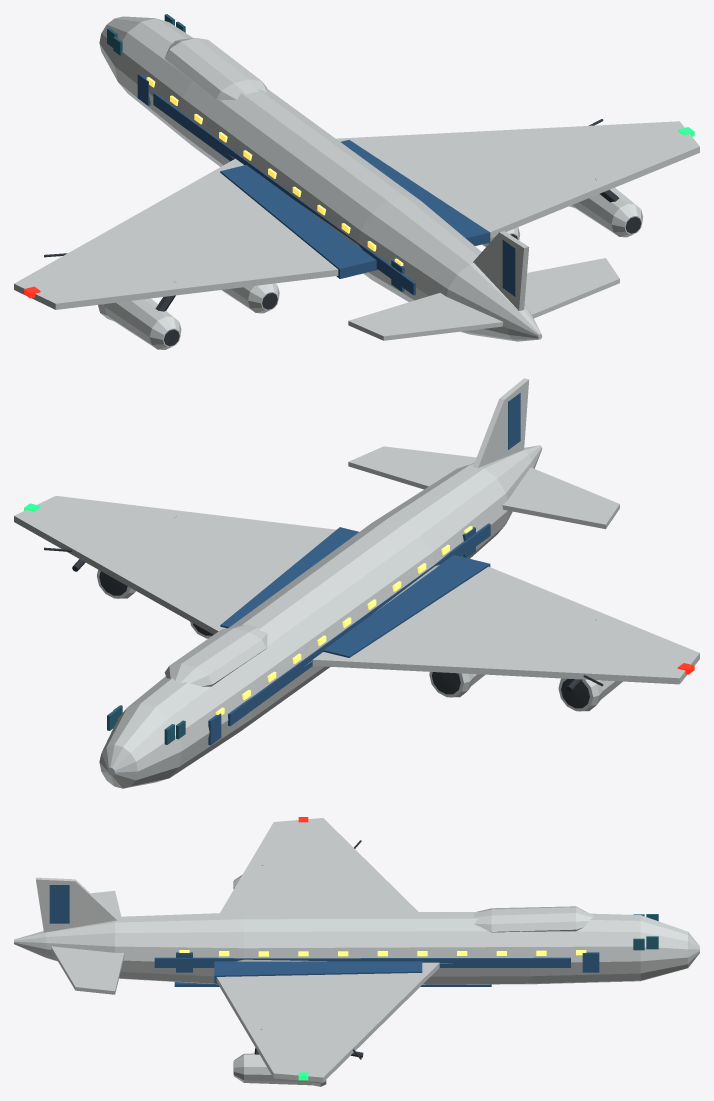
File: airliner-v1.glb
3 views of the same model, one above another, from view 1: azimuth 30°, elevation 25°; view 2: azimuth 150°, elevation 25°; view 3: azimuth 270°, elevation 25° (orthographic). The views are drawn at different scales.
Parts seen in each view (by area): view 1: airliner-airframe; view 2: airliner-airframe; view 3: airliner-airframe.
Part boxes in pixels (<box>): airliner-airframe: <box>14,14,699,349</box>; airliner-airframe: <box>14,378,699,788</box>; airliner-airframe: <box>14,817,699,1086</box>.
Size of the model in its own units: 62 by 12.98 by 69.2.
